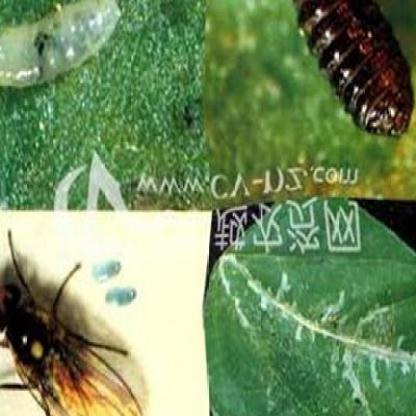whorl-maggot: (274, 0, 414, 146), (0, 0, 130, 93)
